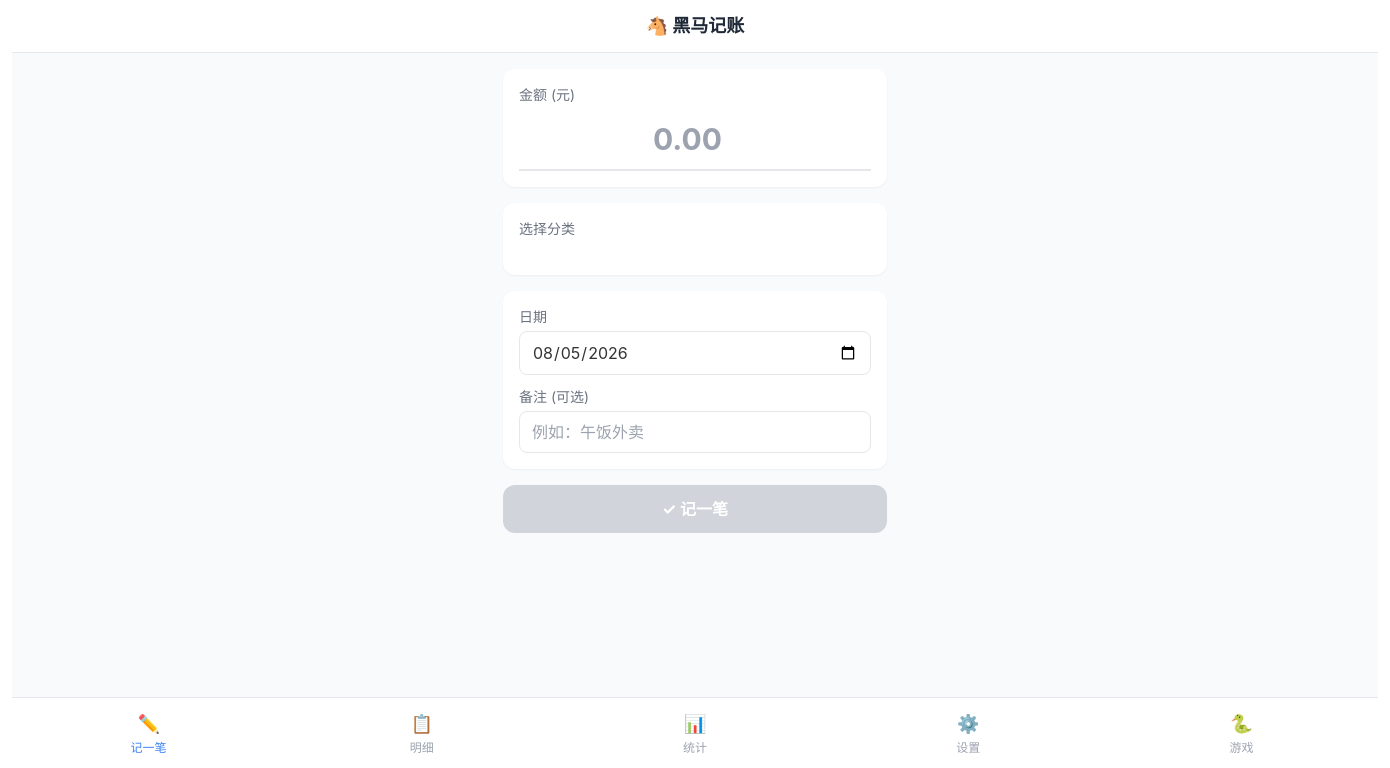
Test: App — 主界面 › 导航切换 › 点击"设置"应切换到设置页
Click the text "设置".
click(968, 748)  # box [956, 740, 980, 756]
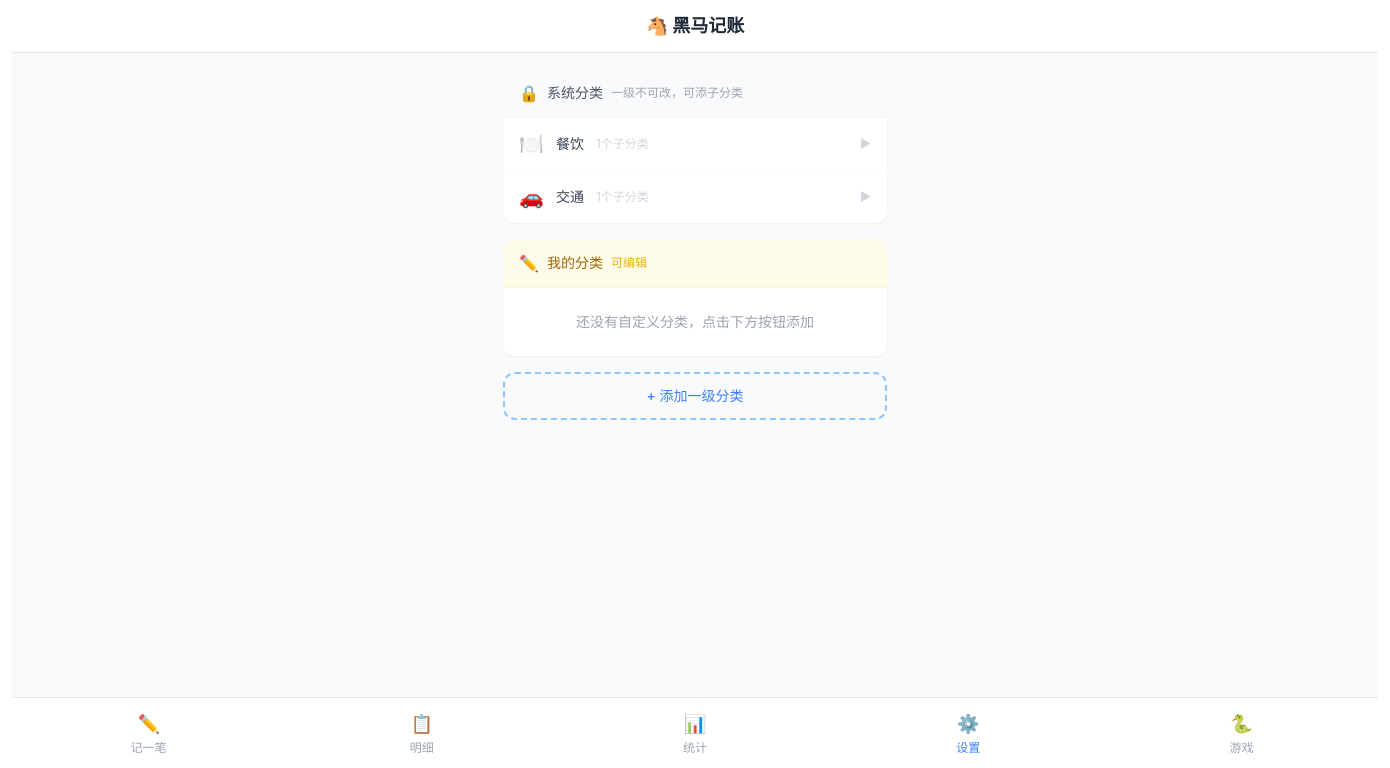
Expected: the text "系统分类" is shown, [547, 83, 603, 103]
Expected: the text "我的分类" is shown, [547, 253, 603, 273]
